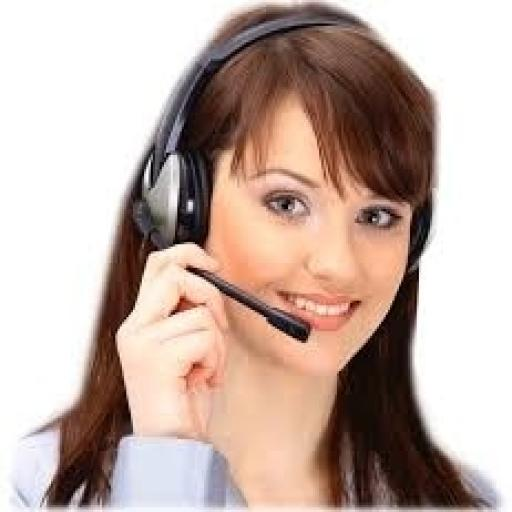calling: (0, 0, 503, 510)
